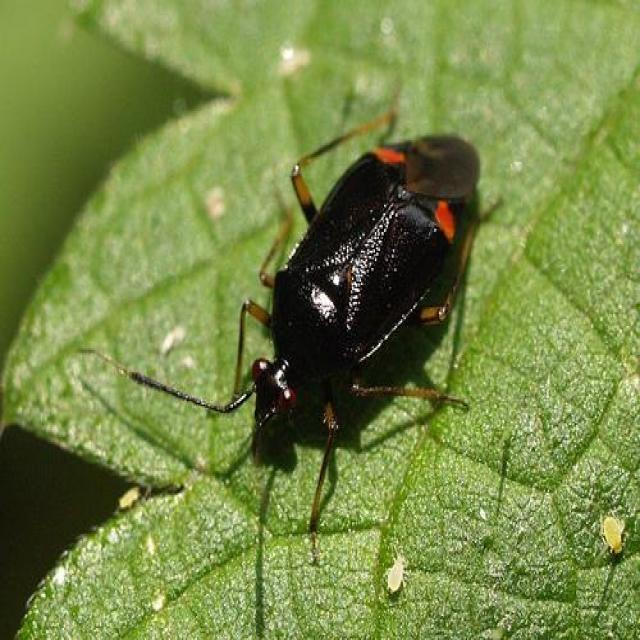Miridae-Adult-: (132, 99, 489, 571)
